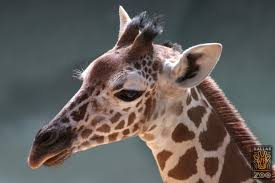Jirafa: (15, 9, 245, 183)
